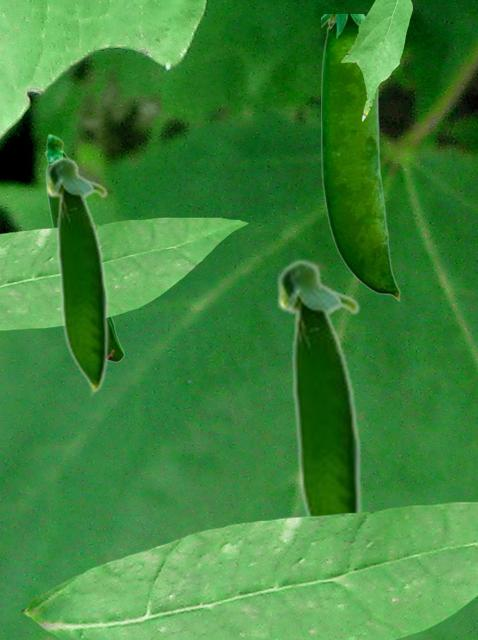pea: (321, 14, 399, 300), (275, 257, 361, 515), (44, 133, 123, 361), (44, 155, 108, 396)
